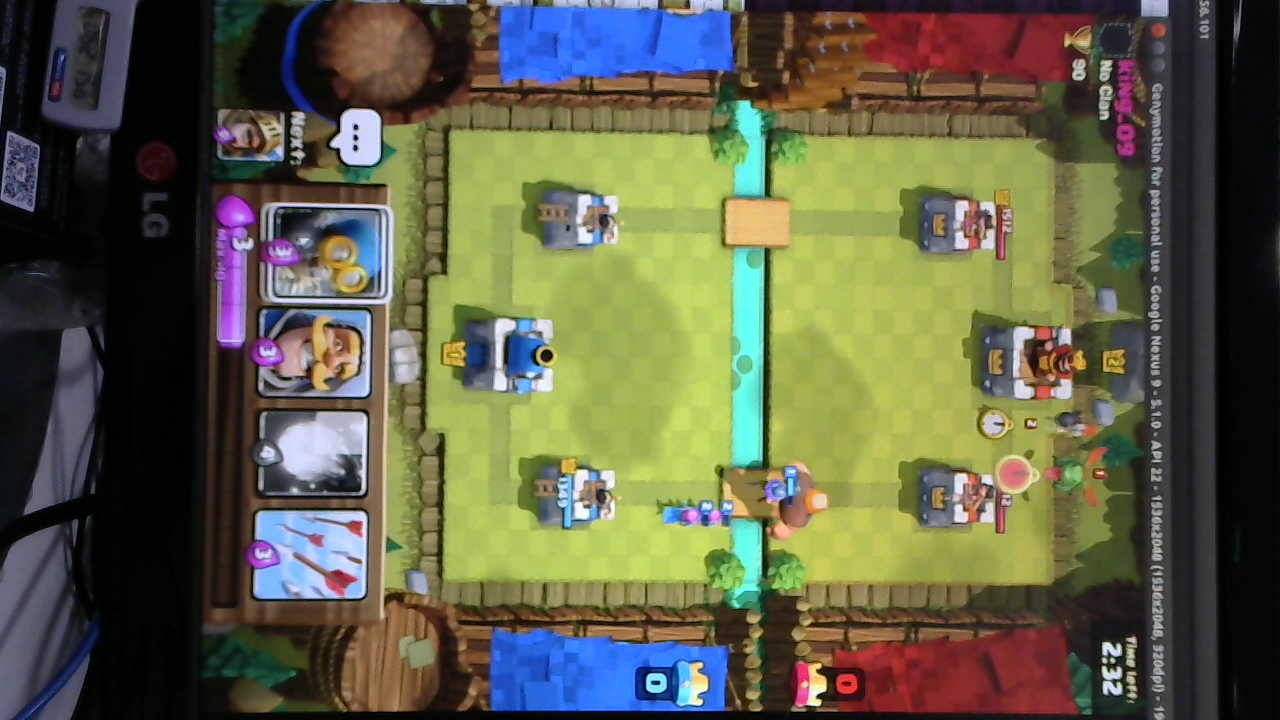archers: (655, 497, 741, 530)
arena: (545, 464, 625, 528), (540, 189, 622, 250)
dragon: (1054, 445, 1109, 510)
earena: (922, 467, 998, 532), (921, 196, 996, 254)
eking: (979, 325, 1077, 402)
giant: (778, 460, 828, 540)
king: (465, 313, 558, 396)
musketeer: (750, 478, 803, 508)
